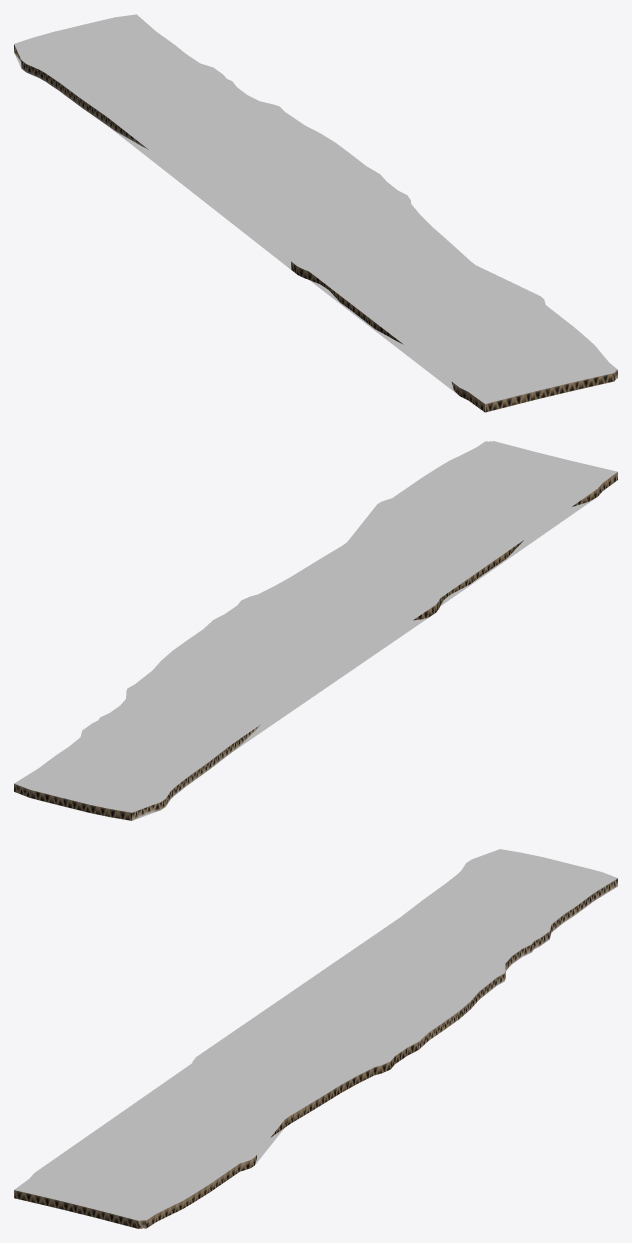
The model's file is sprite_big_cem.fbx.
3 views of the same model, one above another, from view 1: azimuth 30°, elevation 25°; view 2: azimuth 150°, elevation 25°; view 3: azimuth 330°, elevation 25° (orthographic). The views are drawn at different scales.
Visible parts, largest first — view 1: Cube; view 2: Cube; view 3: Cube.
Part boxes in pixels (x1,y1,x2,y2): Cube: [14, 14, 617, 412]; Cube: [14, 441, 617, 820]; Cube: [14, 849, 617, 1228].
Bounding box in the file's own units: 78.39 × 4 × 418.
